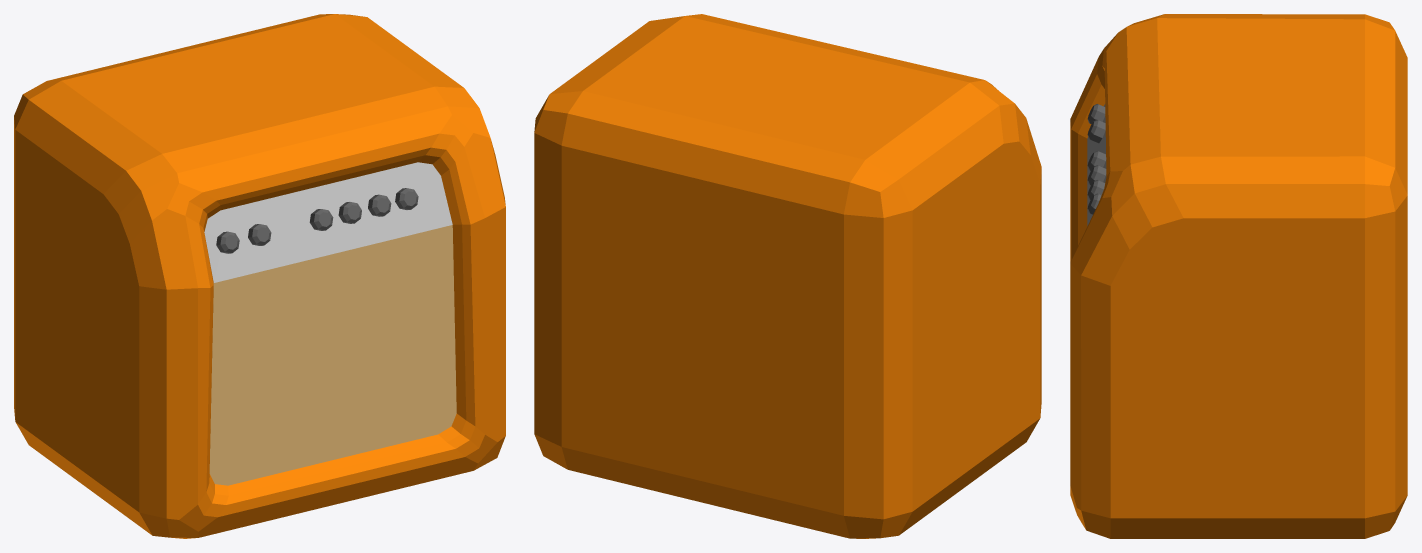
Rendered from Amp.fbx.
3 views of the same model, side by side, from view 1: azimuth 30°, elevation 25°; view 2: azimuth 150°, elevation 25°; view 3: azimuth 270°, elevation 25° (orthographic). The views are drawn at different scales.
Visible parts, largest first — view 1: Amp; view 2: Amp; view 3: Amp.
Boxes of the visible parts, box(x1,y1,x2,y2) form: Amp: box(14, 14, 505, 538); Amp: box(534, 14, 1041, 538); Amp: box(1070, 14, 1407, 538).
Size of the model in its own units: 0.4831 by 0.4654 by 0.3761.
Materials: 1 (1 with a texture image).
